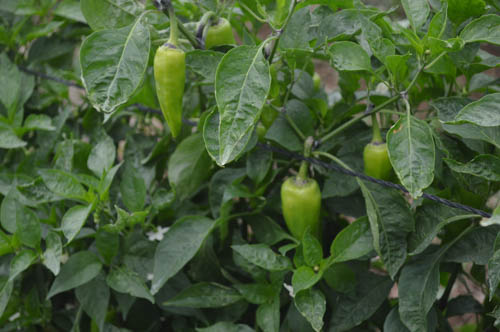ChiliPepper: (280, 178, 325, 262), (153, 48, 187, 139), (363, 143, 396, 182), (206, 21, 236, 61)
